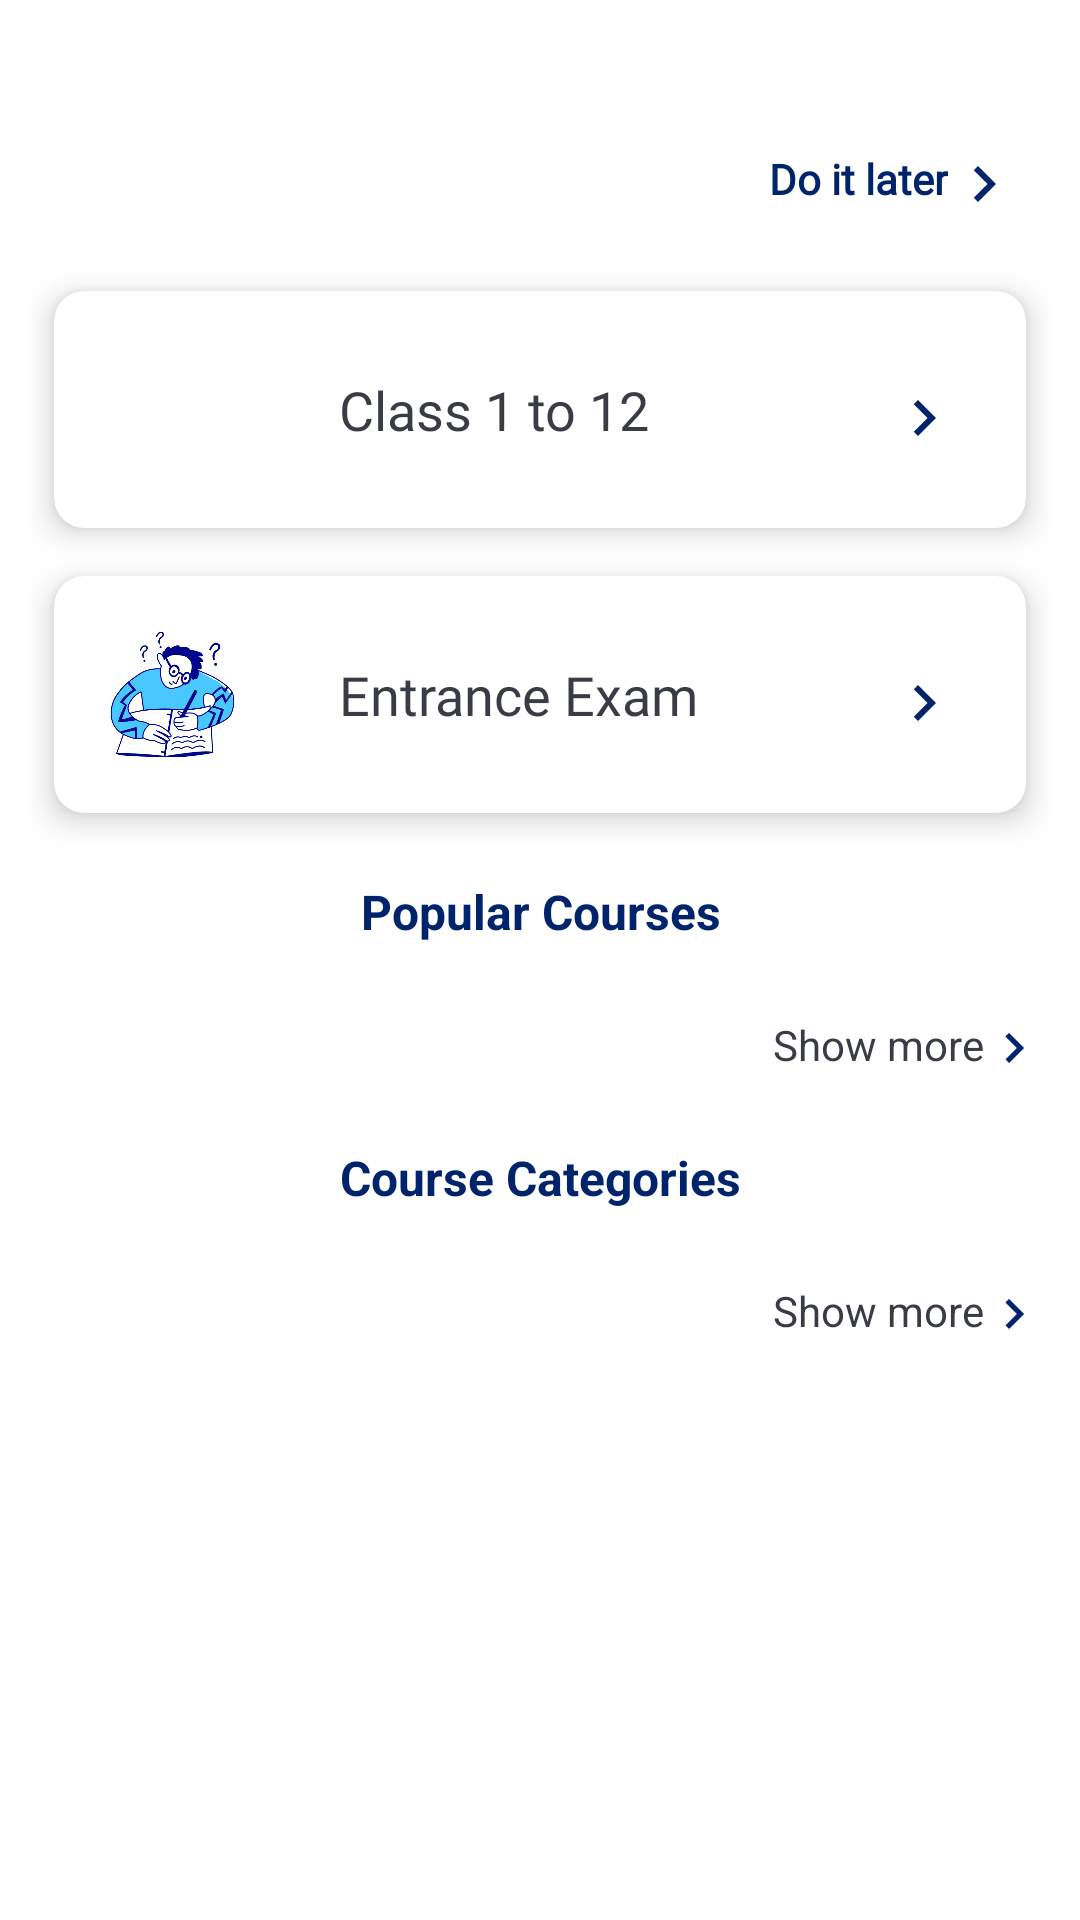

Icons on this 1080px x 1920px Android screen, each with its box as detection(x1, y1, x2, y2):
next: detection(974, 166, 996, 202), detection(914, 400, 936, 436), detection(914, 685, 936, 721), detection(1005, 1033, 1024, 1063), detection(1005, 1299, 1024, 1329)
